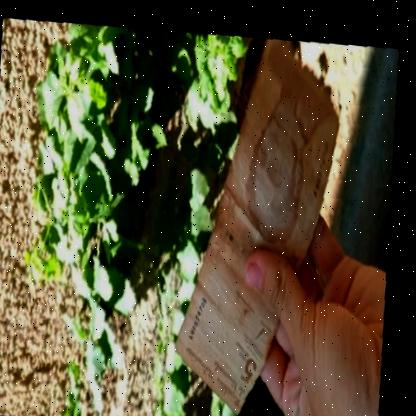five-front-vef: (174, 25, 347, 415)
